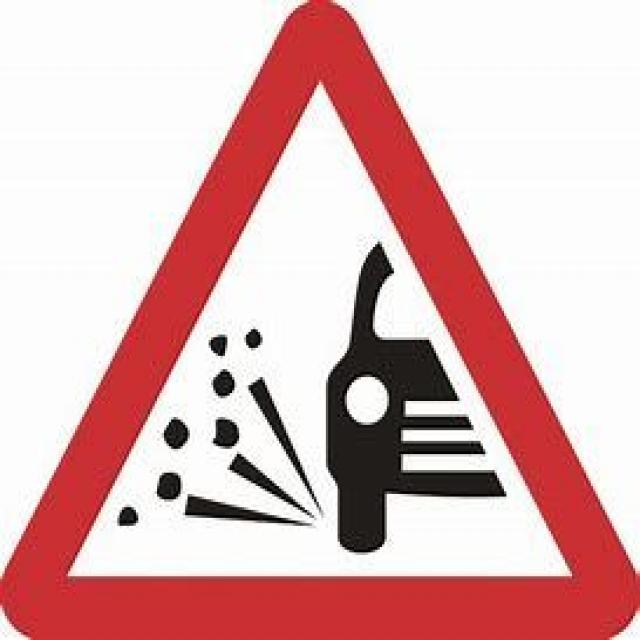LOOSE_GRAVEL: (2, 0, 637, 637)
